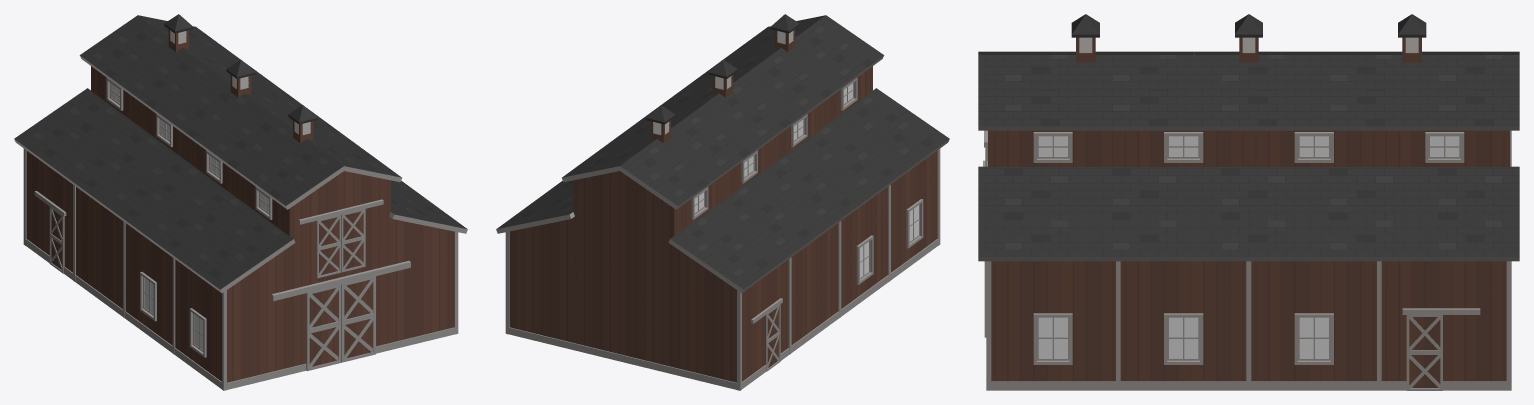
File: SM_Bldg_Farm_Barn_01.fbx
3 renders of one model, left to right at view 1: azimuth 30°, elevation 25°; view 2: azimuth 150°, elevation 25°; view 3: azimuth 270°, elevation 25°, orthographic. The views are drawn at different scales.
Parts seen in each view (by area): view 1: SM_Bldg_Farm_Barn_01, SM_Bldg_Farm_Barn_01_Glass; view 2: SM_Bldg_Farm_Barn_01, SM_Bldg_Farm_Barn_01_Glass; view 3: SM_Bldg_Farm_Barn_01, SM_Bldg_Farm_Barn_01_Glass.
Boxes of the visible parts, x1=… form: SM_Bldg_Farm_Barn_01: x1=14, y1=14, x2=467, y2=390; SM_Bldg_Farm_Barn_01_Glass: x1=111, y1=83, x2=269, y2=350; SM_Bldg_Farm_Barn_01: x1=496, y1=14, x2=949, y2=390; SM_Bldg_Farm_Barn_01_Glass: x1=694, y1=83, x2=918, y2=277; SM_Bldg_Farm_Barn_01: x1=978, y1=14, x2=1519, y2=390; SM_Bldg_Farm_Barn_01_Glass: x1=1038, y1=136, x2=1459, y2=358.
Size of the model in its own units: 1151 by 1020 by 1660.
